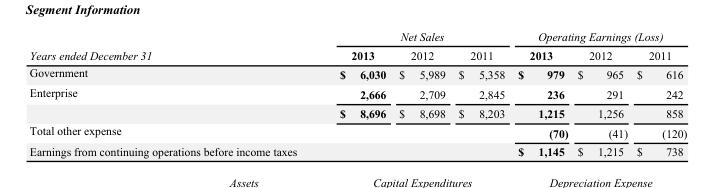table: (28, 29, 686, 157)
table column: (28, 29, 317, 157), (317, 29, 391, 157), (510, 29, 572, 157), (391, 29, 451, 157), (451, 29, 510, 157), (572, 29, 631, 157), (631, 29, 686, 157)
table column header: (28, 29, 686, 63)
table row: (28, 63, 686, 83), (28, 83, 686, 103), (28, 121, 686, 141), (28, 45, 686, 63), (28, 103, 686, 121), (28, 29, 686, 45), (28, 141, 686, 157)
table spanning cell: (28, 29, 317, 63), (317, 29, 510, 45), (510, 29, 686, 45)
